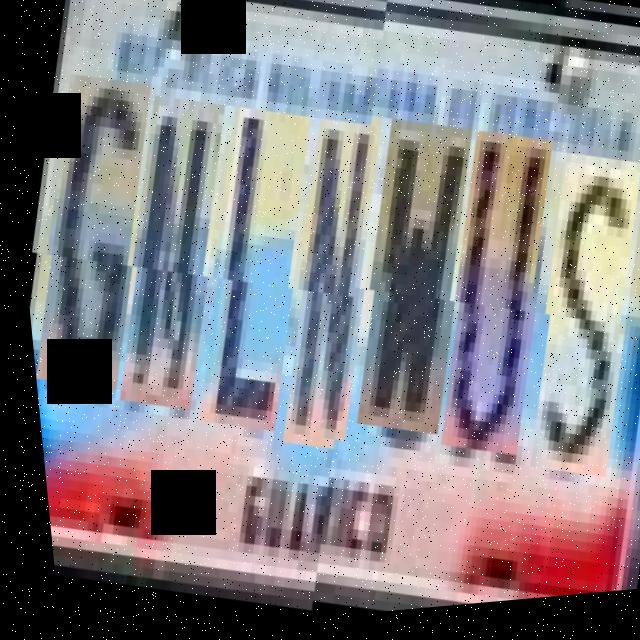G: (6, 70, 176, 396)
L: (166, 106, 336, 441)
N: (249, 120, 407, 460), (89, 93, 250, 417)
S: (494, 167, 640, 503)
U: (406, 144, 575, 478)
W: (323, 130, 494, 456)
